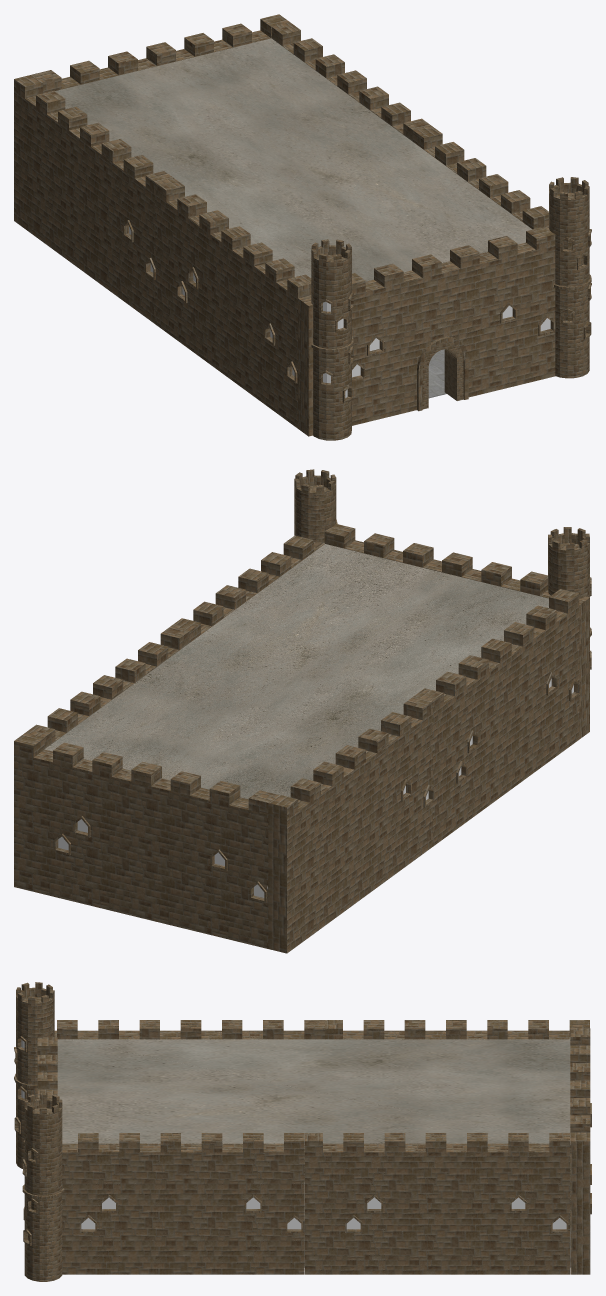
The model's file is CASTLE3.fbx.
3 views of the same model, one above another, from view 1: azimuth 30°, elevation 25°; view 2: azimuth 150°, elevation 25°; view 3: azimuth 270°, elevation 25° (orthographic). The views are drawn at different scales.
Parts seen in each view (by area): view 1: Castle_ceiling, Castle_Main.006, Castle_Main.001, Castle_Main.002, Castle_Tower, Castle_Tower2, Castle_Main.003, Castle_Main.004, Castle_Main.005, Castle_Door, Castle_Floor; view 2: Castle_ceiling, Castle_Main.003, Castle_Main.002, Castle_Main.001, Castle_Main.006, Castle_Main.004, Castle_Main.005, Castle_Tower, Castle_Tower2; view 3: Castle_ceiling, Castle_Main.004, Castle_Main.005, Castle_Tower2, Castle_Main.003, Castle_Main.001, Castle_Tower, Castle_Main.002, Castle_Main.006.
Boxes of the visible parts, left/top/right/bottom form: Castle_ceiling: left=55, top=38, right=532, bottom=281; Castle_Main.006: left=298, top=226, right=555, bottom=436; Castle_Main.001: left=155, top=178, right=311, bottom=428; Castle_Main.002: left=14, top=74, right=173, bottom=323; Castle_Tower: left=311, top=239, right=353, bottom=440; Castle_Tower2: left=549, top=177, right=591, bottom=378; Castle_Main.003: left=32, top=14, right=289, bottom=93; Castle_Main.004: left=271, top=22, right=430, bottom=141; Castle_Main.005: left=413, top=125, right=555, bottom=375; Castle_Door: left=417, top=337, right=463, bottom=410; Castle_Floor: left=428, top=349, right=446, bottom=398; Castle_ceiling: left=44, top=543, right=548, bottom=799; Castle_Main.003: left=14, top=733, right=278, bottom=948; Castle_Main.002: left=268, top=696, right=434, bottom=953; Castle_Main.001: left=414, top=589, right=579, bottom=846; Castle_Main.006: left=324, top=524, right=589, bottom=739; Castle_Main.004: left=25, top=626, right=189, bottom=748; Castle_Main.005: left=171, top=535, right=324, bottom=642; Castle_Tower: left=548, top=527, right=591, bottom=669; Castle_Tower2: left=294, top=469, right=337, bottom=542; Castle_ceiling: left=57, top=1037, right=570, bottom=1145; Castle_Main.004: left=305, top=1133, right=569, bottom=1274; Castle_Main.005: left=62, top=1133, right=304, bottom=1274; Castle_Tower2: left=22, top=1093, right=64, bottom=1281; Castle_Main.003: left=570, top=1028, right=591, bottom=1274; Castle_Main.001: left=57, top=1020, right=324, bottom=1039; Castle_Tower: left=14, top=982, right=54, bottom=1168; Castle_Main.002: left=325, top=1020, right=589, bottom=1039; Castle_Main.006: left=37, top=1030, right=57, bottom=1099.
Bounding box in the file's own units: 2190 × 1361 × 4105.
Materials: 12 (6 with a texture image).
